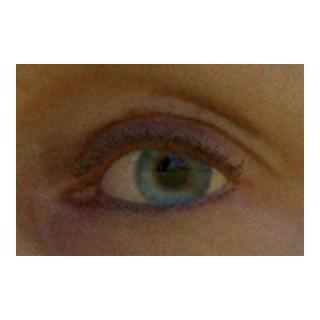pupil: (159, 158, 186, 186)
